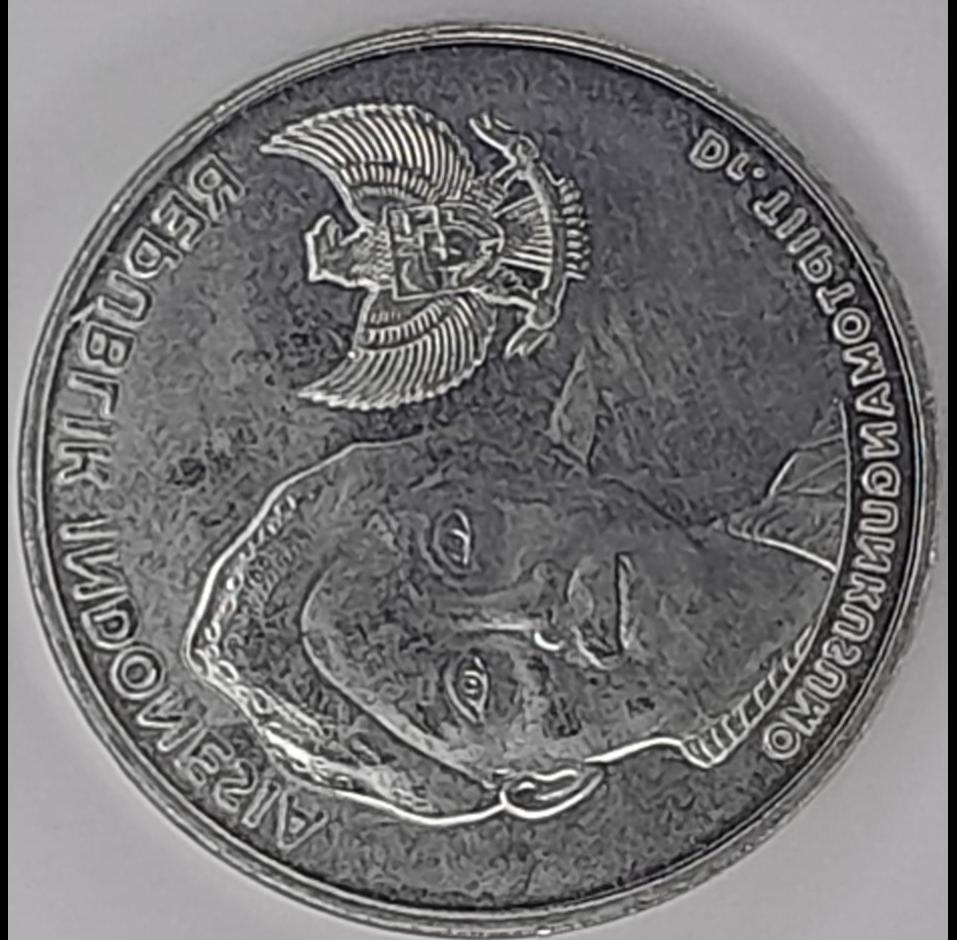coin_200_e2016: (0, 16, 957, 940)
